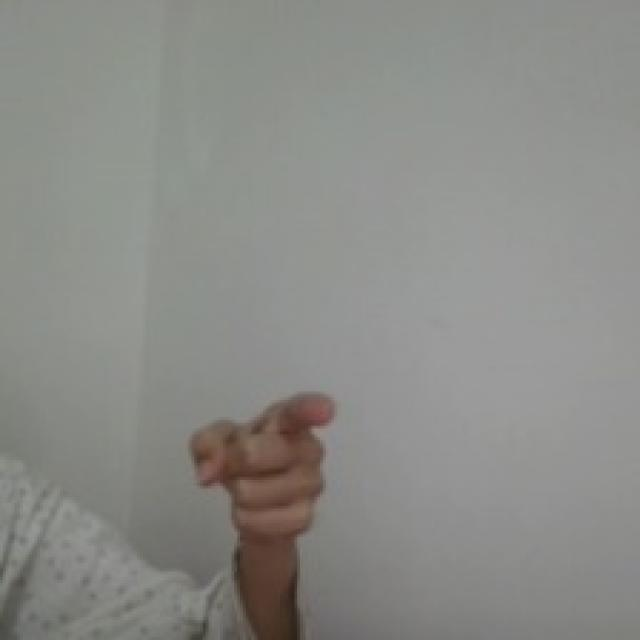you: (183, 382, 343, 549)
